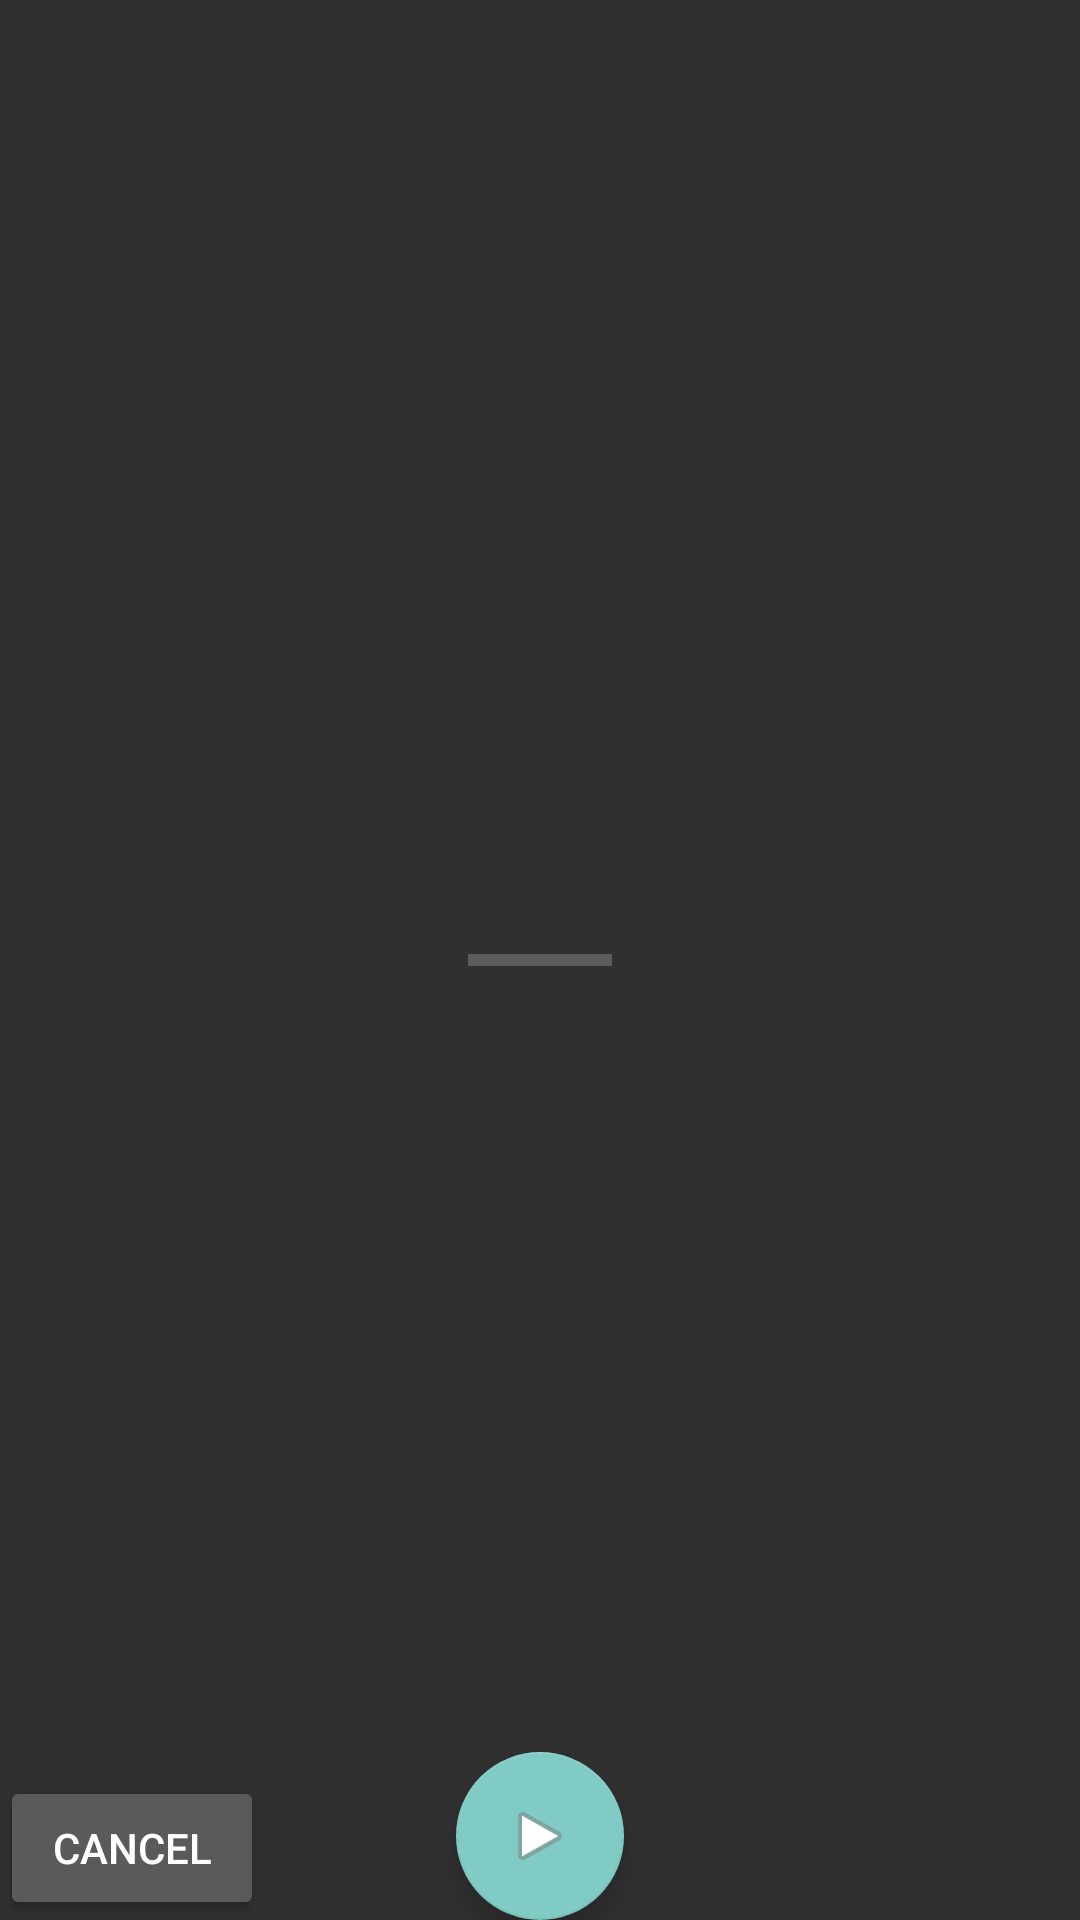

Where to tap for icons on this 1080px×1920px app screen, as (x=x, y=y):
play: (x=540, y=1836)
